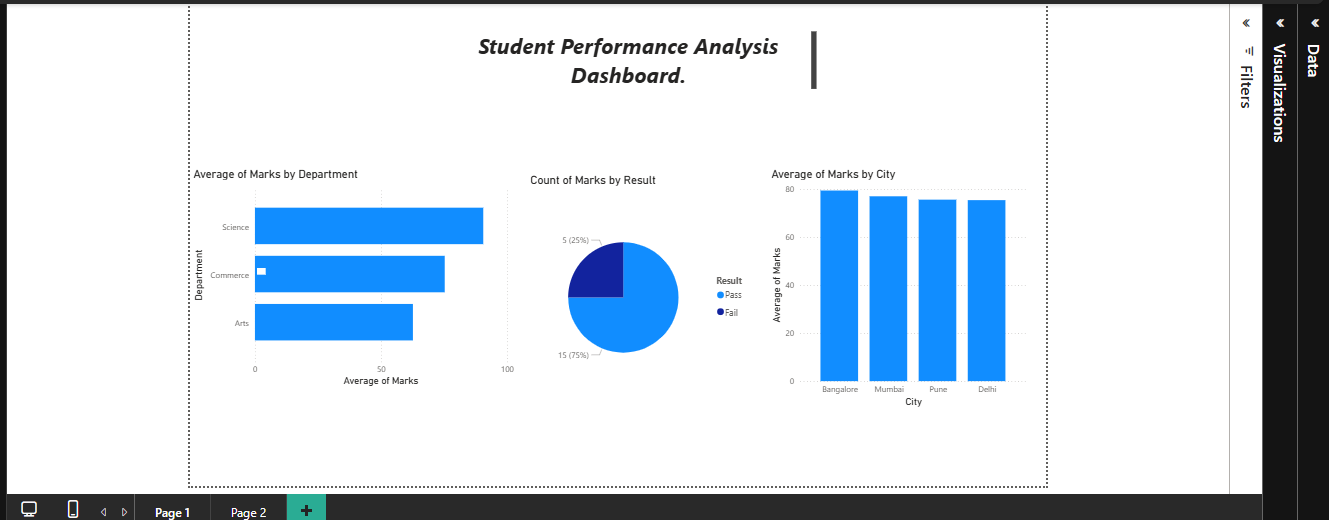

The dashboard page shown, as its layout file describes it:
{"tool":"powerbi","page":{"name":"Page 1","canvas":[1280,720],"ordinal":0},"visuals":[{"type":"clusteredBarChart","fields":{"Category":["student_data.Department"],"Y":["Avg(student_data.Marks)"]},"box":[0,242.9,488.6,332.9],"z":0},{"type":"pieChart","fields":{"Category":["student_data.Result"],"Y":["CountNonNull(student_data.Marks)"]},"box":[502.9,252.9,345.7,352.9],"z":1000},{"type":"clusteredColumnChart","fields":{"Category":["student_data.City"],"Y":["Avg(student_data.Marks)"]},"box":[862.9,242.9,391.4,362.9],"z":2000},{"type":"textbox","box":[378.6,35.7,562.9,104.3],"z":3000},{"type":"textbox","box":[100,394.3,12.9,5.7],"z":4000}]}

Visuals, with their boxes on the page's 1280x720 design canvas (x1, y1, x2, y2). These are canvas units, not pixel positions in the 1329x520 screenshot, which may show the page scaled, cropped or inside an application window:
clusteredBarChart - student_data.Department x Avg(student_data.Marks): l=0, t=243, r=489, b=576
pieChart - student_data.Result x CountNonNull(student_data.Marks): l=503, t=253, r=849, b=606
clusteredColumnChart - student_data.City x Avg(student_data.Marks): l=863, t=243, r=1254, b=606
textbox: l=379, t=36, r=942, b=140
textbox: l=100, t=394, r=113, b=400
